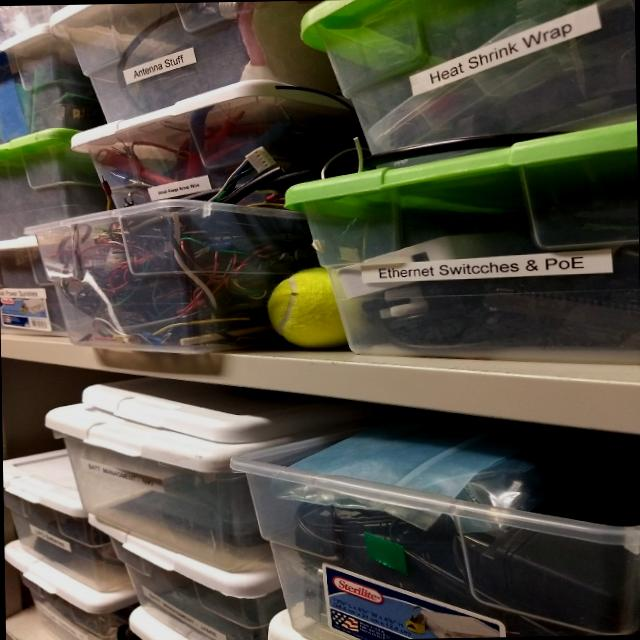Tennis Ball: (266, 268, 352, 346)
